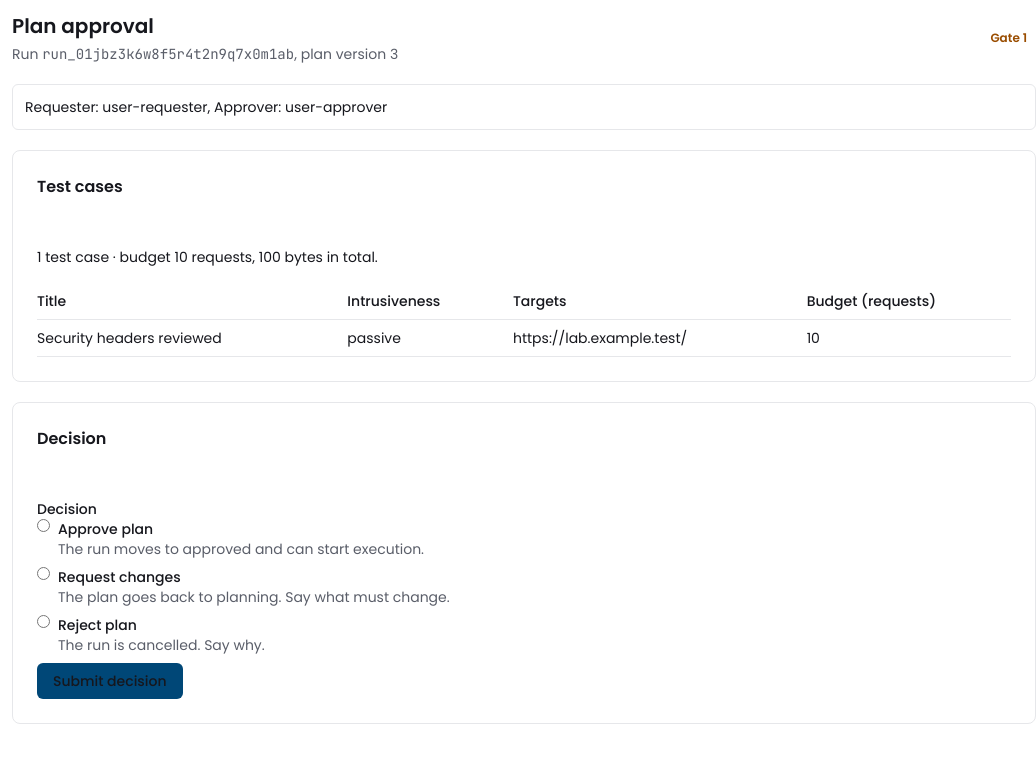
it: Gate1Review: the approver › approves and reports the new run state, with the server key sent once
Click the radio button labelled "Approve plan" at (44, 526), box 37,519 -> 50,532
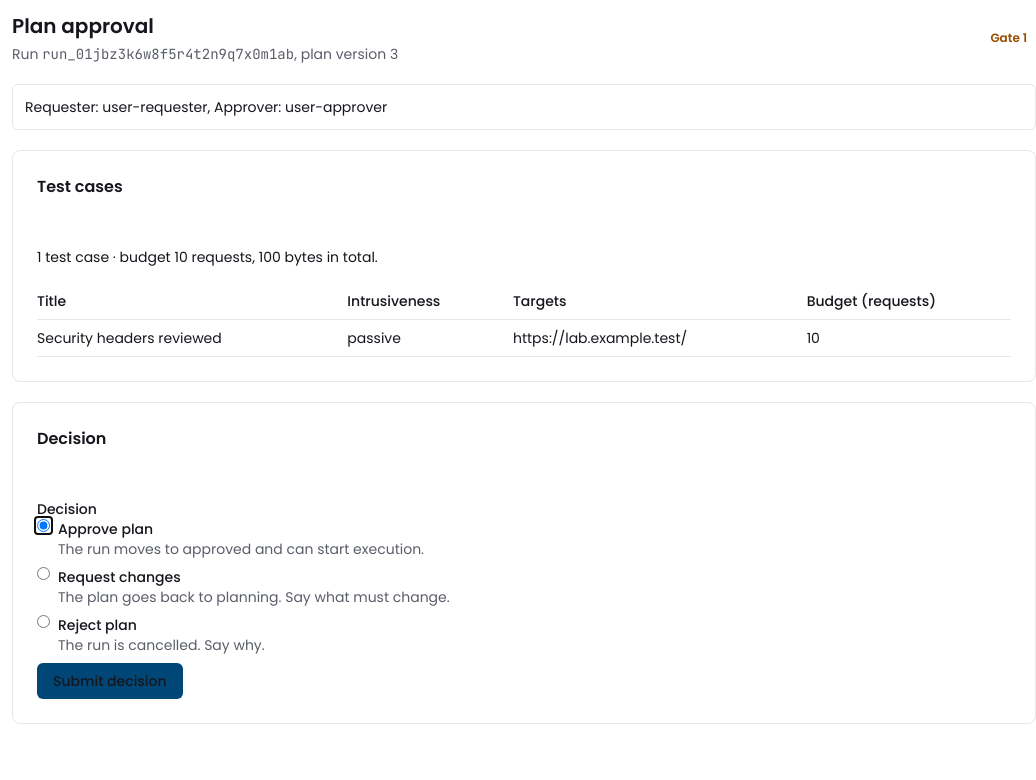
Click the button "Submit decision" at (110, 681), box 37,663 -> 182,699
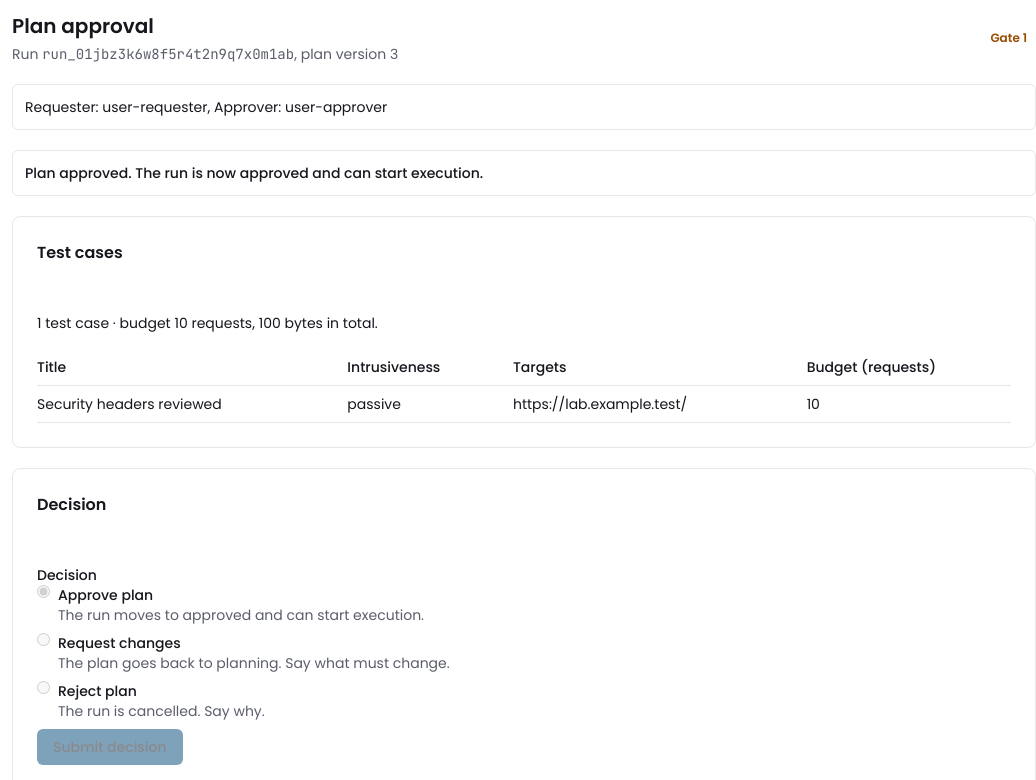
Expected: the message shows "Plan approved", 25,163 -> 483,183
